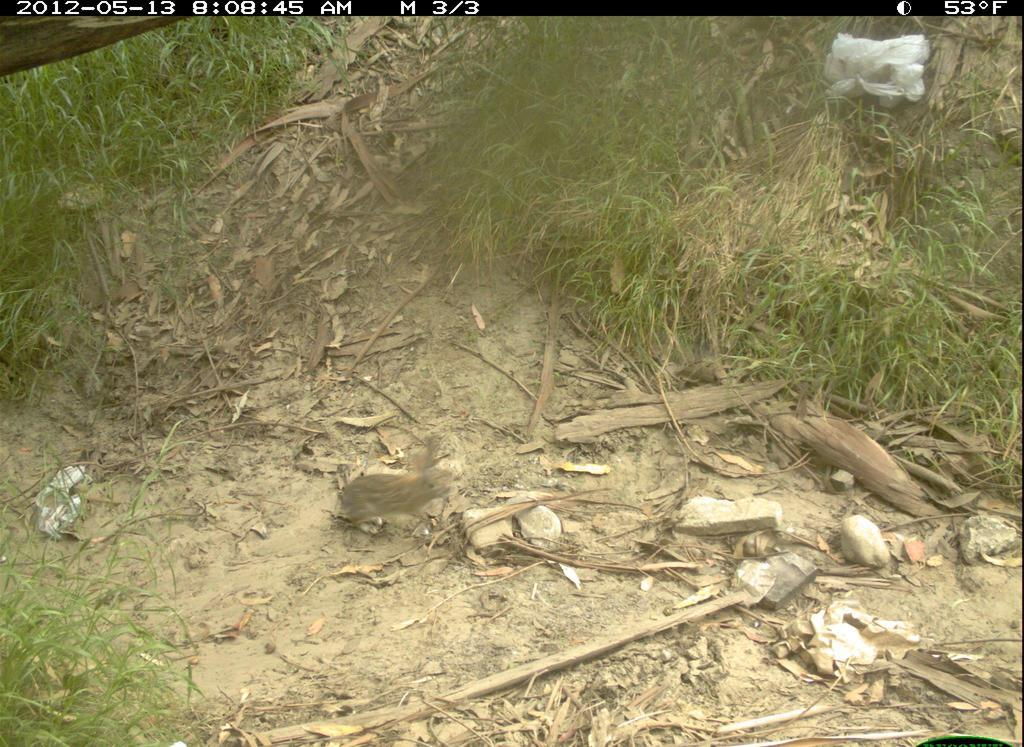rabbit: (321, 444, 479, 554)
